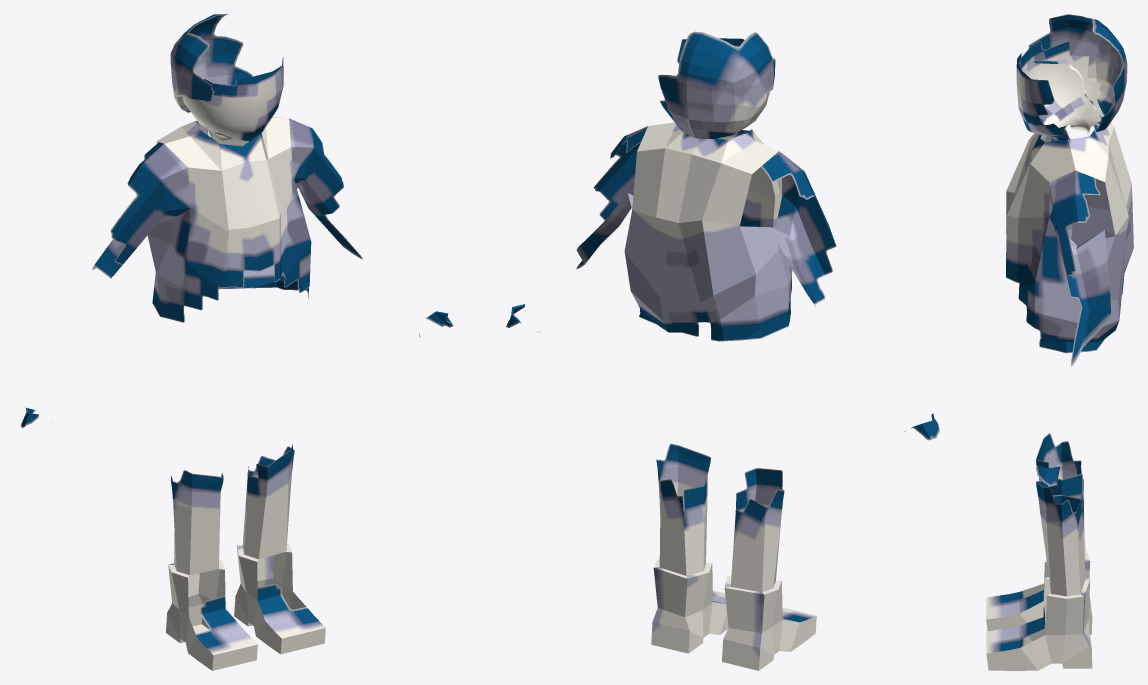
Rendered from adult.fbx.
3 views of the same model, side by side, from view 1: azimuth 30°, elevation 25°; view 2: azimuth 150°, elevation 25°; view 3: azimuth 270°, elevation 25° (orthographic). The views are drawn at different scales.
Visible parts, largest first — view 1: Character.003, Character.002; view 2: Character.003, Character.002; view 3: Character.003, Character.002.
Part boxes in pixels (bbox=[...]): Character.003: bbox=[20, 117, 453, 670]; Character.002: bbox=[170, 14, 283, 141]; Character.003: bbox=[506, 122, 939, 670]; Character.002: bbox=[658, 31, 775, 139]; Character.003: bbox=[986, 122, 1133, 670]; Character.002: bbox=[1016, 14, 1127, 141].
Bounding box in the file's own units: 1266 × 1671 × 360.
